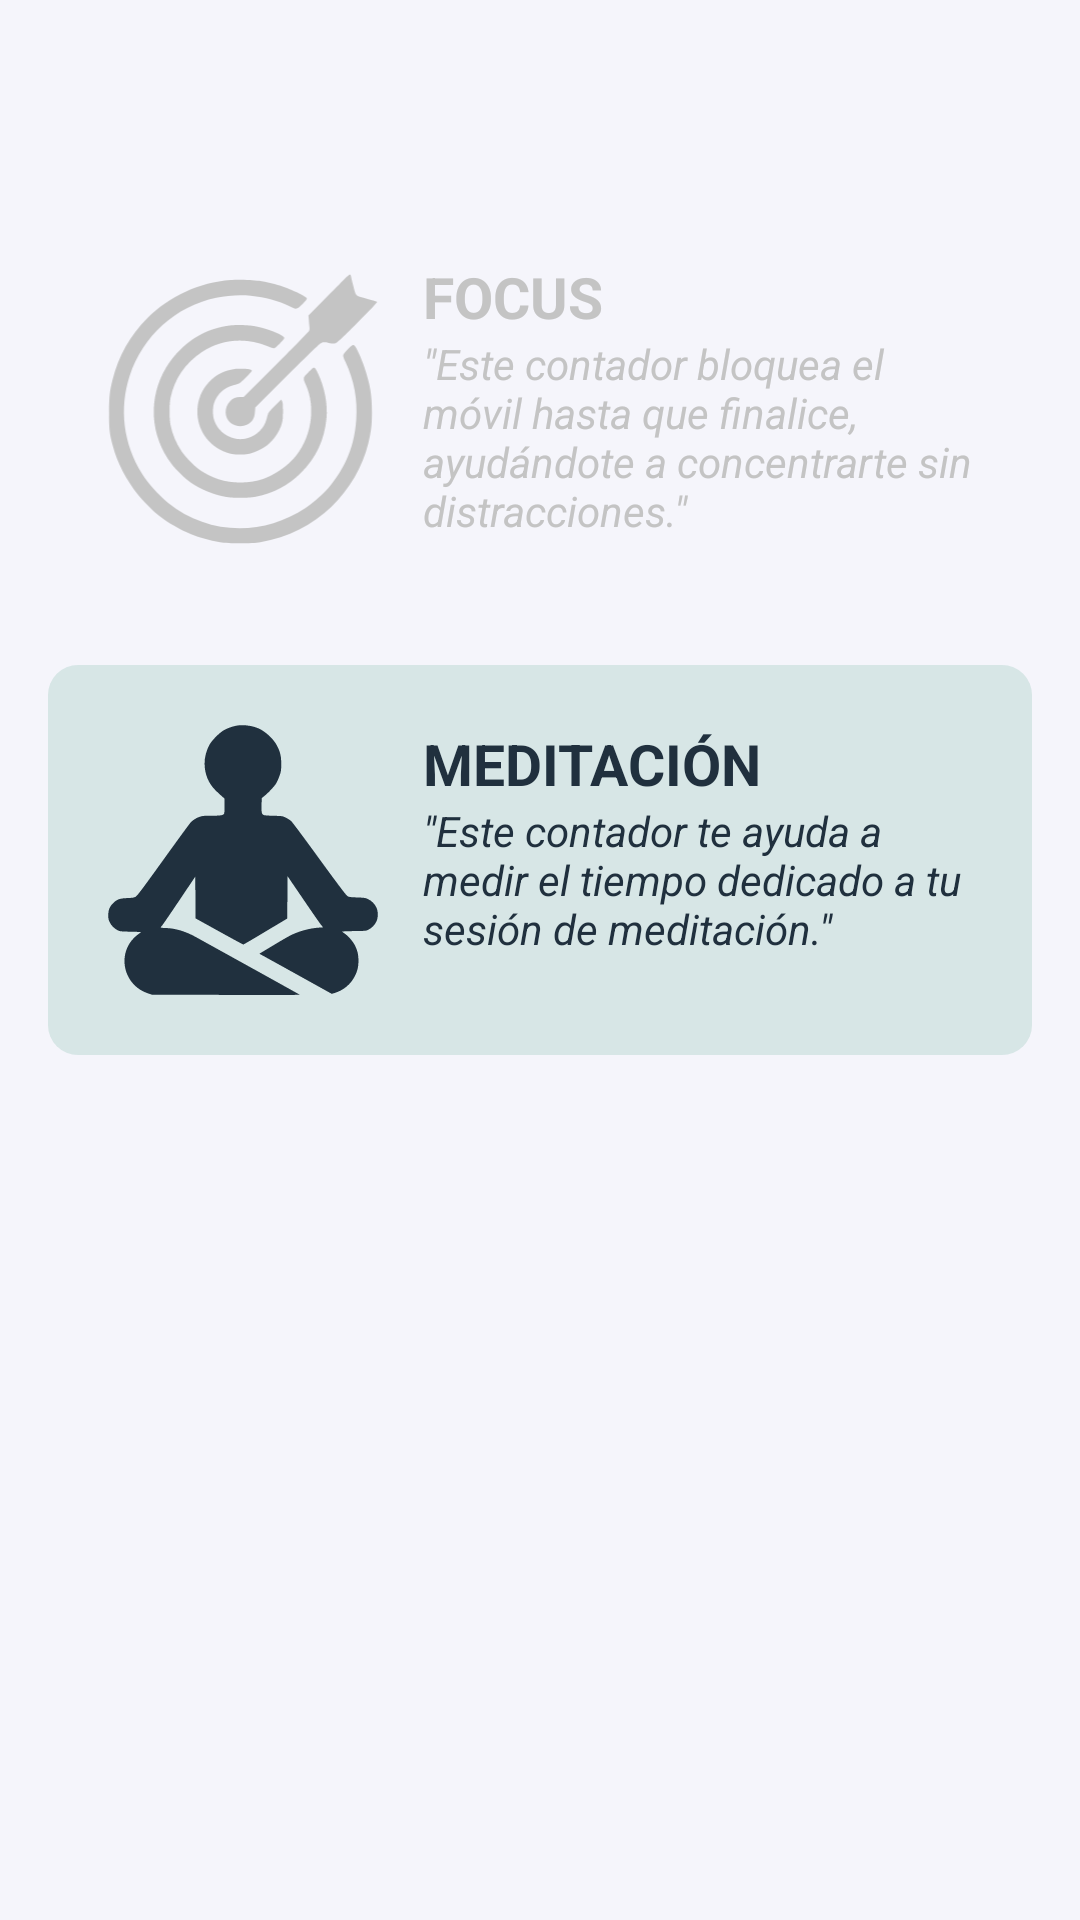

Where to tap for icons on this 1080w x 1920h app screen, as point (x, y):
diana: point (243, 409)
